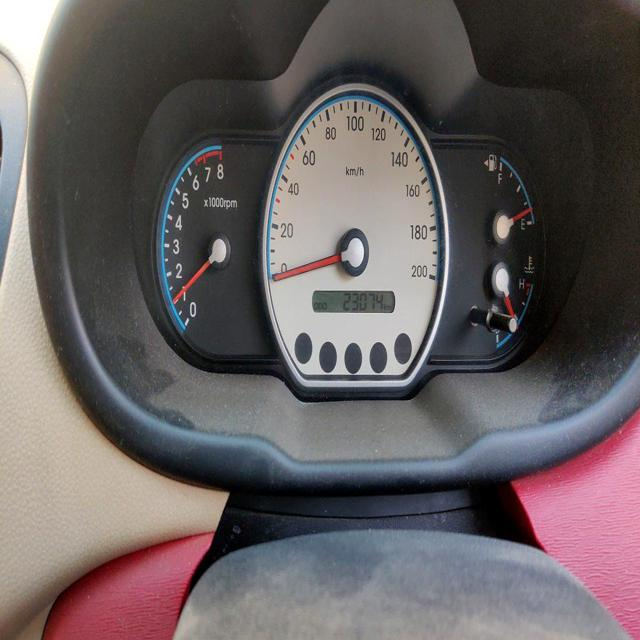odometer: (340, 289, 388, 315)
